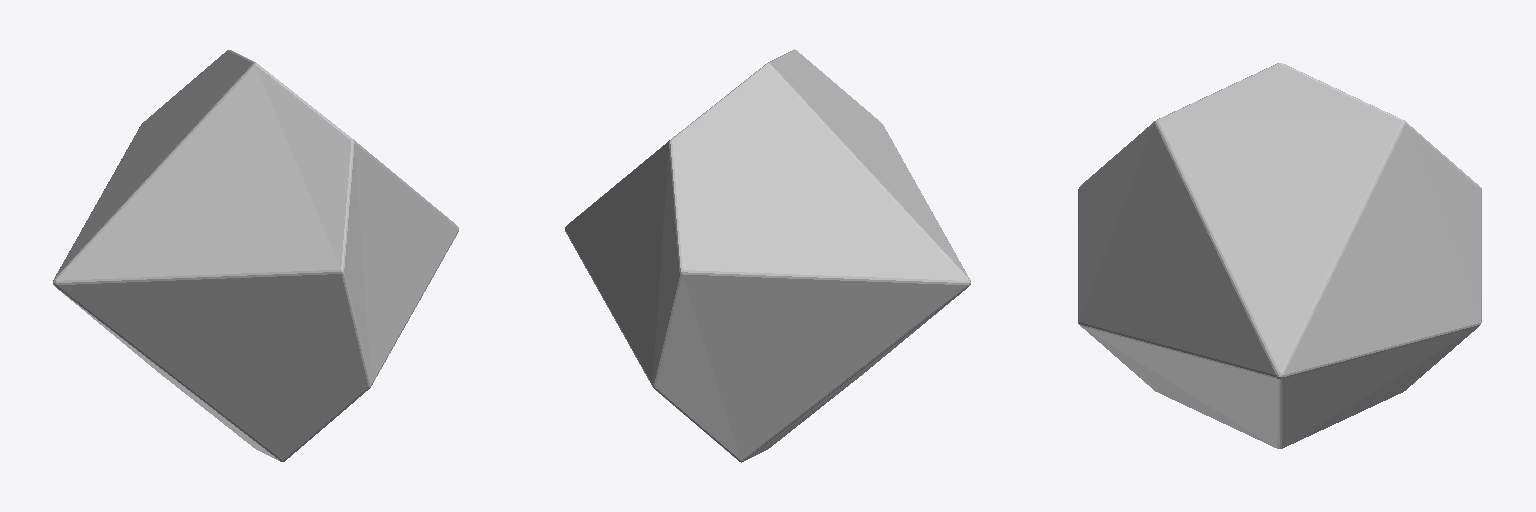
3 renders of one model, left to right at view 1: azimuth 30°, elevation 25°; view 2: azimuth 150°, elevation 25°; view 3: azimuth 270°, elevation 25°, orthographic.
Parts seen in each view (by area): view 1: Die_Scaled_D10.001; view 2: Die_Scaled_D10.001; view 3: Die_Scaled_D10.001.
Part boxes in pixels (x1,y1,x2,y2): Die_Scaled_D10.001: (53, 50, 458, 461); Die_Scaled_D10.001: (565, 49, 970, 462); Die_Scaled_D10.001: (1078, 63, 1481, 448).
Size of the model in its own units: 0.9395 by 0.8544 by 0.8095.